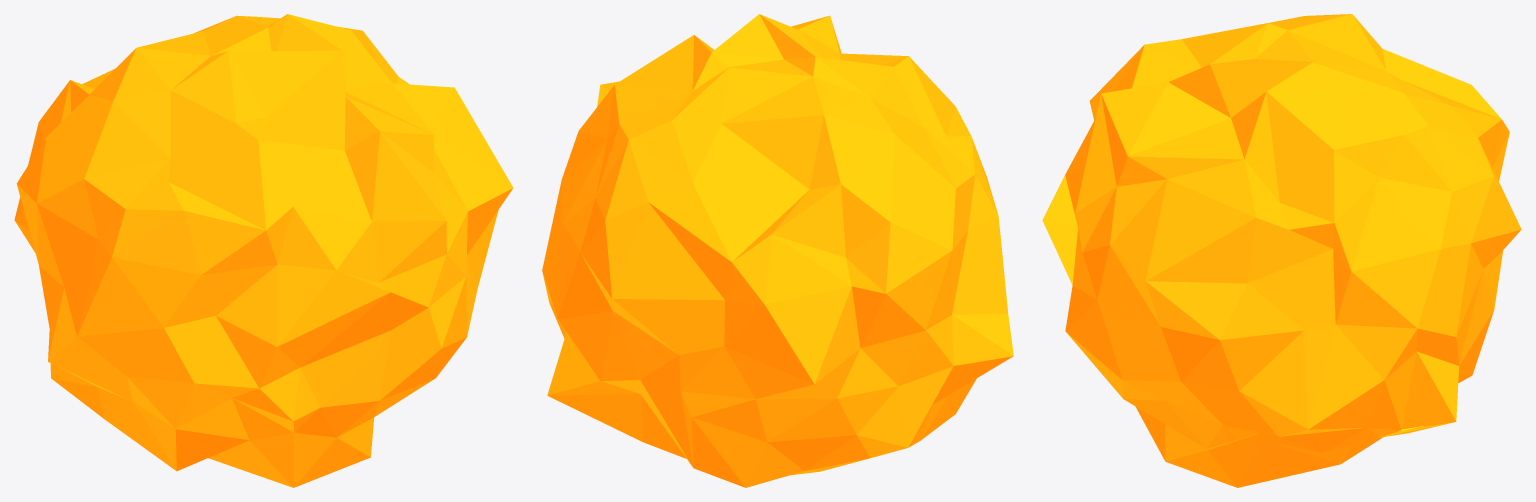
Rendered from explosion_0.glb.
3 views of the same model, side by side, from view 1: azimuth 30°, elevation 25°; view 2: azimuth 150°, elevation 25°; view 3: azimuth 270°, elevation 25° (orthographic).
Visible parts, largest first — view 1: Icosphere.001; view 2: Icosphere.001; view 3: Icosphere.001.
Boxes of the visible parts, x1,y1,x2,y2 form: Icosphere.001: (14,14,513,487); Icosphere.001: (542,14,1013,487); Icosphere.001: (1042,14,1521,487).
Bounding box in the file's own units: 1 × 0.9196 × 0.9438.
